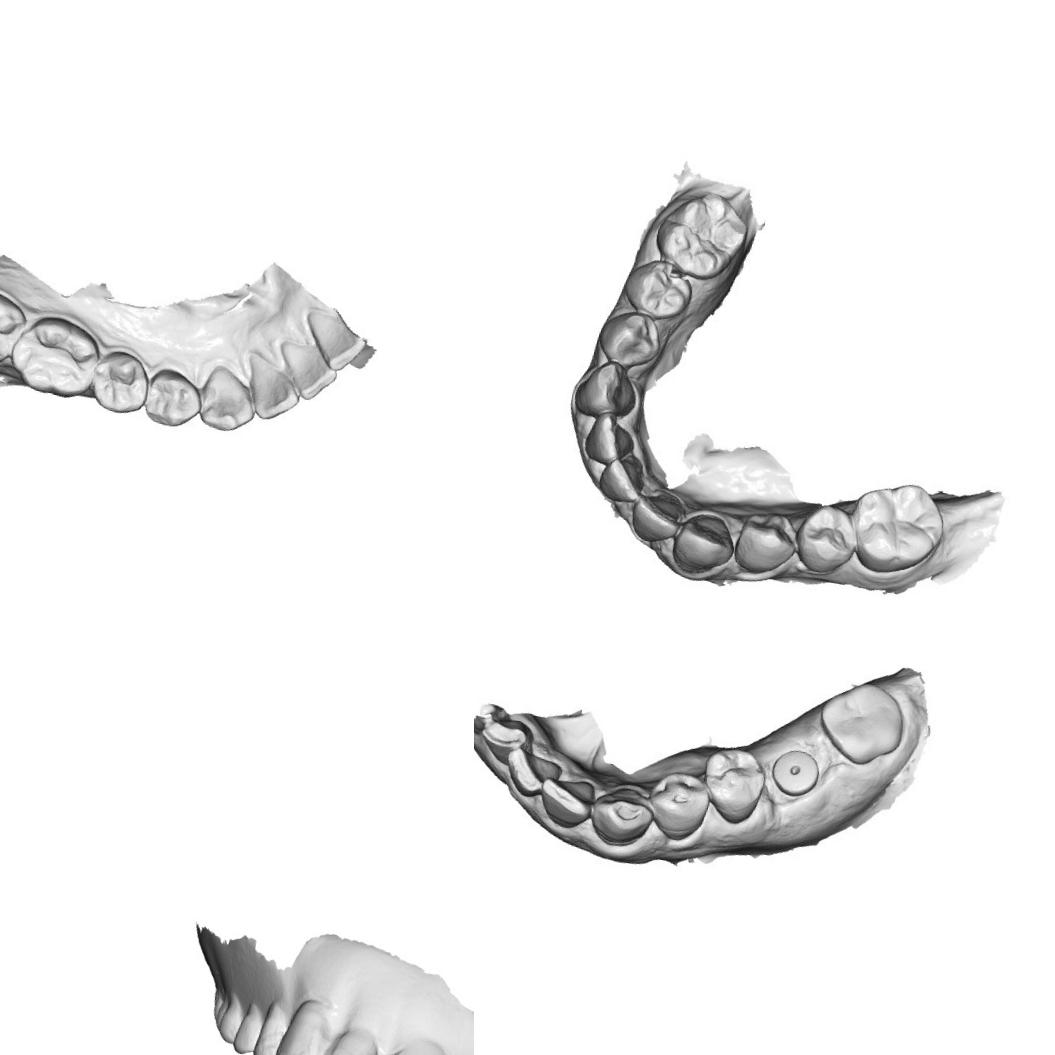canine: (194, 361, 263, 440), (587, 782, 660, 854), (732, 508, 802, 582), (572, 360, 640, 420), (272, 992, 331, 1055)
implant: (770, 744, 822, 798)
incisor: (669, 508, 741, 586), (238, 346, 306, 425), (306, 303, 373, 377), (273, 336, 343, 406), (628, 481, 692, 548), (536, 770, 603, 830), (583, 408, 640, 471), (505, 743, 563, 799), (597, 447, 646, 509), (482, 708, 534, 763), (313, 1024, 386, 1055), (362, 1034, 451, 1055)
molar: (809, 670, 912, 774), (846, 473, 946, 576), (656, 182, 754, 284), (7, 305, 104, 401), (0, 273, 29, 372), (211, 994, 245, 1048)
premolar: (646, 770, 713, 841), (140, 359, 204, 432), (796, 500, 860, 572), (704, 749, 768, 821), (622, 258, 689, 322), (597, 307, 664, 371), (91, 348, 152, 414), (228, 1000, 264, 1055), (251, 1001, 285, 1055)
